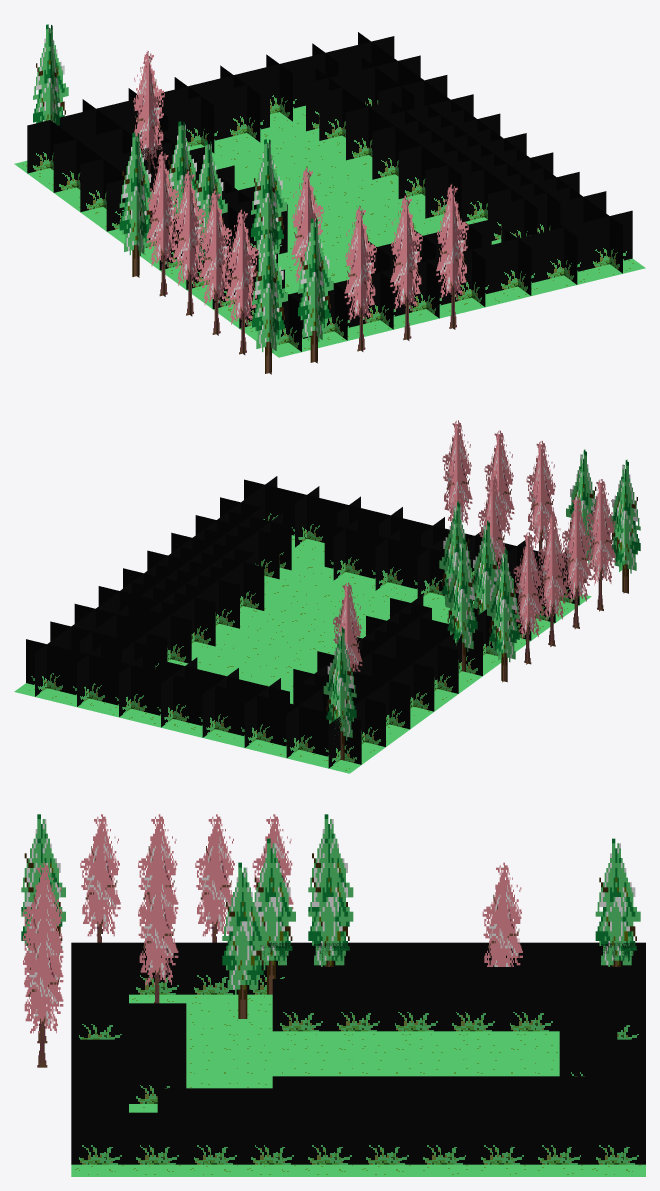
The model's file is battleground_bg.glb.
3 renders of one model, top to bottom at view 1: azimuth 30°, elevation 25°; view 2: azimuth 150°, elevation 25°; view 3: azimuth 270°, elevation 25°, orthographic. The views are drawn at different scales.
Visible parts, largest first — view 1: loose, group_4EDB1E70, group_E4514E15, group_E43683E4, group_87F28296, group_7C3EE4CF, group_FE9970FC, group_27B03171, group_6E913671, group_6C17BF0F, group_4927A166, group_905F18E0 (+61 smaller); view 2: loose, group_E43683E4, group_E4514E15, group_3CF487F3, group_65002008, group_4927A166, group_6C17BF0F, group_7C3EE4CF, group_27B03171, group_78281495, group_757D6549, group_9ED394FF (+65 smaller); view 3: loose, group_905F18E0, group_65002008, group_3CF487F3, group_711D7FB3, group_6E913671, group_23B3855D, group_4927A166, group_B52BC53C, group_C197CD28, group_4253EEBA, group_5EF48942 (+70 smaller).
Boxes of the visible parts, <box> form: loose: <box>14,105,645,357</box>; group_4EDB1E70: <box>298,218,333,363</box>; group_E4514E15: <box>252,229,287,374</box>; group_E43683E4: <box>119,132,152,277</box>; group_87F28296: <box>344,206,376,351</box>; group_7C3EE4CF: <box>199,189,231,335</box>; group_FE9970FC: <box>390,195,422,340</box>; group_27B03171: <box>146,151,178,296</box>; group_6E913671: <box>436,184,468,329</box>; group_6C17BF0F: <box>173,170,205,316</box>; group_4927A166: <box>226,209,258,354</box>; group_905F18E0: <box>251,139,286,257</box>; loose: <box>14,535,591,773</box>; group_E43683E4: <box>487,548,519,682</box>; group_E4514E15: <box>610,459,640,593</box>; group_3CF487F3: <box>445,538,477,671</box>; group_65002008: <box>323,627,356,760</box>; group_4927A166: <box>586,479,615,611</box>; group_6C17BF0F: <box>538,514,567,646</box>; group_7C3EE4CF: <box>562,496,591,628</box>; group_27B03171: <box>513,532,543,664</box>; group_78281495: <box>366,529,408,590</box>; group_757D6549: <box>324,519,366,580</box>; group_9ED394FF: <box>26,635,67,696</box>; loose: <box>71,994,645,1176</box>; group_905F18E0: <box>222,862,266,1018</box>; group_65002008: <box>595,838,640,966</box>; group_3CF487F3: <box>308,838,353,966</box>; group_711D7FB3: <box>254,838,295,994</box>; group_6E913671: <box>23,911,63,1067</box>; group_23B3855D: <box>138,862,178,1003</box>; group_4927A166: <box>80,814,120,942</box>; group_B52BC53C: <box>243,1112,301,1164</box>; group_C197CD28: <box>358,1112,416,1164</box>; group_4253EEBA: <box>186,1112,243,1164</box>; group_5EF48942: <box>71,1112,128,1164</box>.
Bounding box in the file's own units: 9 × 3 × 11.
4 materials, 4 textured.
